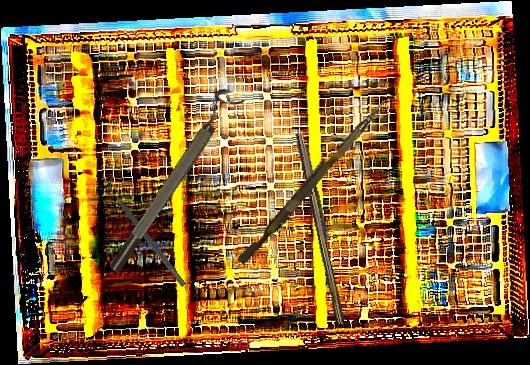Fixation Ring: (98, 84, 245, 276), (95, 176, 192, 292)
Pusher: (236, 93, 388, 270)
Scalpel Handle: (292, 131, 351, 326)
